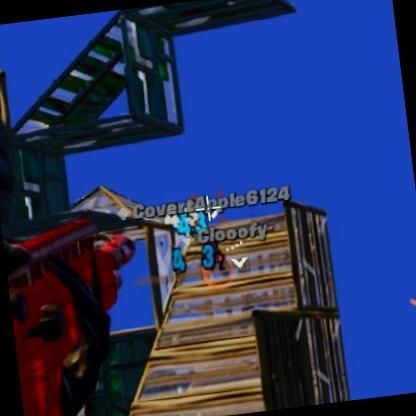person: (205, 231, 222, 260)
